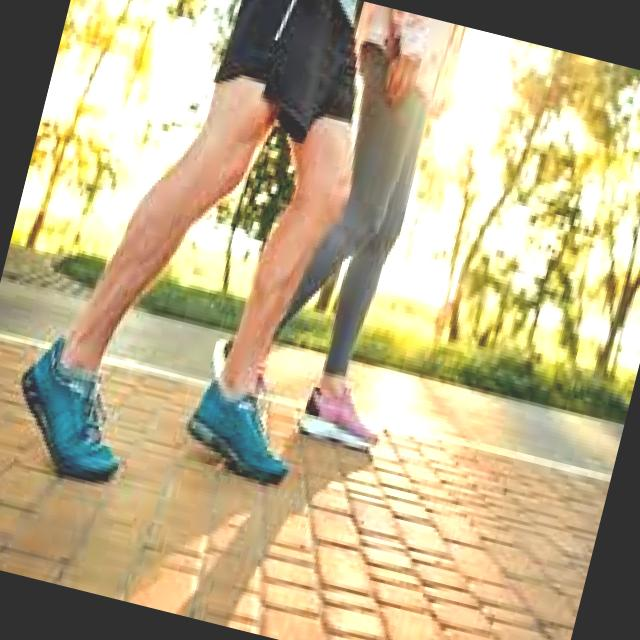foot-wear: (21, 338, 119, 483), (188, 381, 288, 484), (298, 388, 378, 450)
